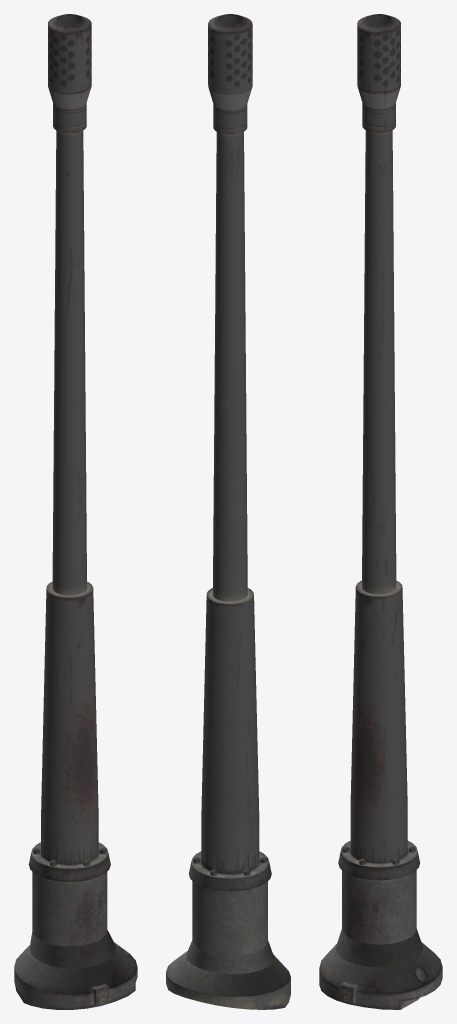
File: Gun_03.glb
The picture shows the model from 3 angles, left to right: view 1: azimuth 30°, elevation 25°; view 2: azimuth 150°, elevation 25°; view 3: azimuth 330°, elevation 25°; orthographic projection.
Visible parts, largest first — view 1: set_0_group_0; view 2: set_0_group_0; view 3: set_0_group_0.
Boxes of the visible parts, left/top/right/bottom form: set_0_group_0: left=14, top=14, right=137, bottom=1009; set_0_group_0: left=166, top=14, right=290, bottom=1009; set_0_group_0: left=319, top=14, right=442, bottom=1009.
Size of the model in its own units: 0.7114 by 6.1 by 0.6768.
1 material, 1 textured.
